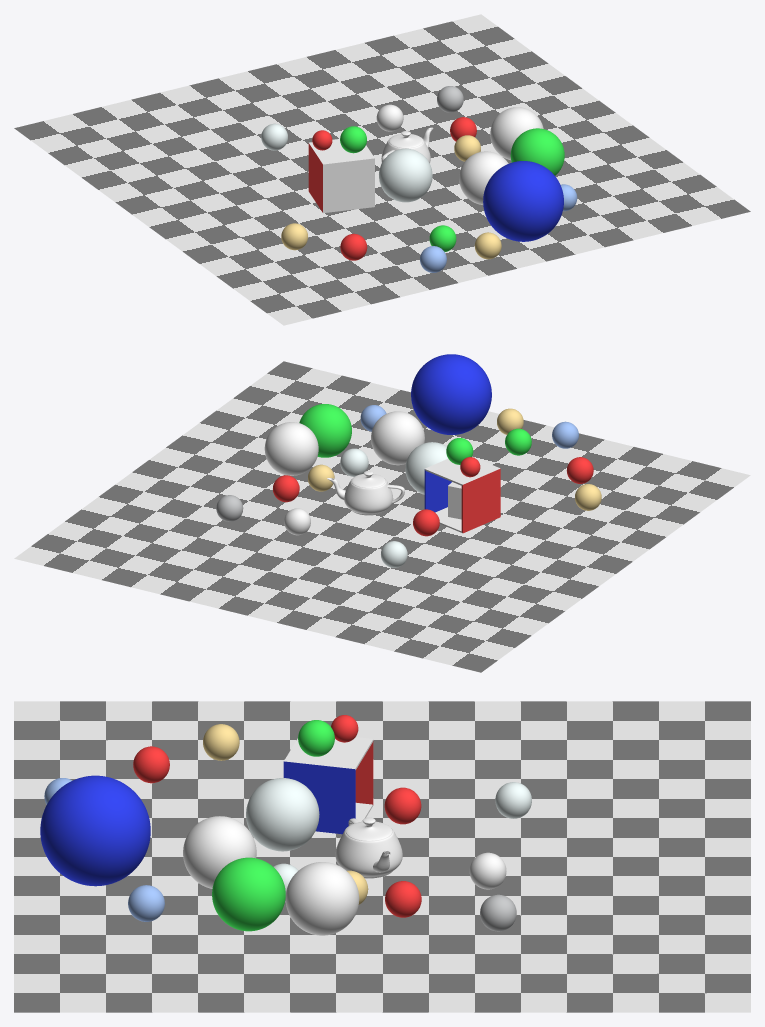
The model's file is PathTraceScene.glb.
3 renders of one model, top to bottom at view 1: azimuth 30°, elevation 25°; view 2: azimuth 150°, elevation 25°; view 3: azimuth 270°, elevation 25°, orthographic. The views are drawn at different scales.
Parts seen in each view (by area): view 1: floor, 球.007, BoxWhite, MetalicBall0.002, 球, 球.002, 球.004, teapot, BoxWallRed, 球.005, MetalicBall0.001, BallGreen1 (+6 smaller); view 2: floor, 球.007, 球.002, 球.004, teapot, BoxWallRed, 球, BoxWhite, MetalicBall0.002, BoxWallBlue, MetalicBall0.025, 球.005 (+11 smaller); view 3: floor, 球.007, 球, 球.002, MetalicBall0.002, 球.004, BoxWallBlue, teapot, BoxWhite, 球.005, MetalicBall0.010, 球.001 (+8 smaller).
Part boxes in pixels (box(x1,y1,x2,y2)): floor: box(14, 14, 750, 325); 球.007: box(483, 161, 563, 241); BoxWhite: box(309, 139, 374, 213); MetalicBall0.002: box(379, 148, 432, 202); 球: box(510, 128, 564, 175); 球.002: box(490, 107, 543, 160); 球.004: box(459, 151, 508, 204); teapot: box(381, 127, 433, 162); BoxWallRed: box(308, 143, 322, 212); 球.005: box(376, 104, 403, 131); MetalicBall0.001: box(474, 232, 501, 259); BallGreen1: box(340, 126, 366, 153); floor: box(14, 361, 750, 672); 球.007: box(411, 354, 491, 434); 球.002: box(264, 422, 318, 475); 球.004: box(371, 411, 424, 465); teapot: box(327, 471, 404, 515); BoxWallRed: box(461, 468, 500, 533); 球: box(299, 404, 351, 457); BoxWhite: box(425, 456, 500, 532); MetalicBall0.002: box(405, 442, 447, 494); BoxWallBlue: box(424, 469, 451, 512); MetalicBall0.025: box(340, 448, 368, 476); 球.005: box(284, 508, 310, 535); floor: box(14, 701, 750, 1012); 球.007: box(40, 775, 150, 886); 球: box(212, 857, 285, 931); 球.002: box(285, 862, 359, 935); MetalicBall0.002: box(246, 778, 319, 851); 球.004: box(183, 816, 256, 888); BoxWallBlue: box(283, 761, 355, 834); teapot: box(335, 817, 402, 878); BoxWhite: box(284, 737, 373, 821); 球.005: box(469, 852, 506, 889); MetalicBall0.010: box(384, 787, 421, 824); 球.001: box(128, 885, 164, 921).
Bounding box in the file's own units: 40 × 6.06 × 40.
Materials: 11 (1 with a texture image).
